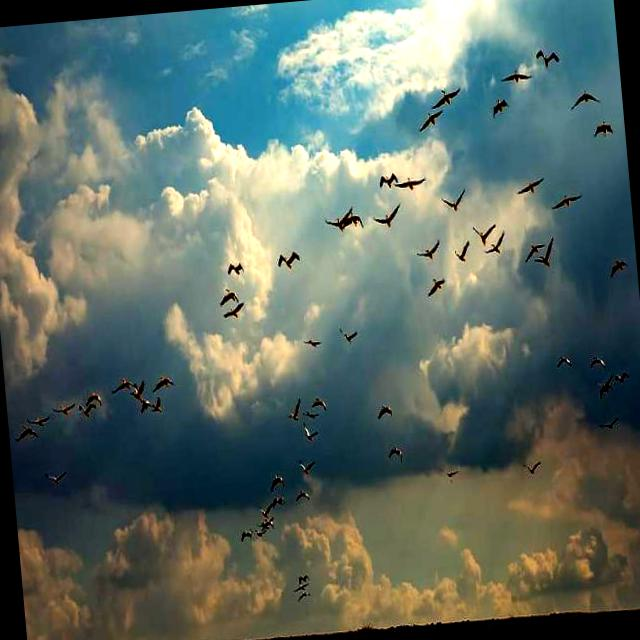bird: (315, 194, 364, 245), (267, 230, 310, 286), (425, 71, 469, 125), (437, 170, 473, 227), (509, 164, 550, 214), (484, 83, 519, 138), (36, 455, 74, 501), (494, 58, 535, 100), (563, 78, 604, 118), (335, 304, 365, 356), (530, 42, 568, 82), (532, 230, 560, 284), (369, 197, 405, 237), (215, 294, 248, 337), (516, 448, 546, 492), (55, 386, 80, 438), (549, 340, 576, 387), (217, 247, 251, 284), (544, 188, 588, 216), (483, 222, 512, 264), (300, 326, 329, 366), (414, 106, 448, 140), (11, 418, 39, 459), (108, 363, 136, 403), (420, 266, 448, 306), (128, 382, 158, 419), (232, 508, 256, 554), (280, 390, 304, 436), (411, 233, 442, 268), (600, 246, 630, 282), (518, 230, 544, 271), (446, 234, 474, 272), (372, 394, 398, 434), (590, 114, 622, 144), (595, 409, 627, 438), (209, 280, 242, 308), (590, 367, 616, 401), (128, 366, 150, 406), (154, 361, 179, 396), (396, 170, 434, 193), (468, 216, 494, 247), (293, 452, 317, 485), (296, 408, 326, 433), (384, 442, 409, 472), (583, 346, 606, 378), (374, 164, 398, 192), (27, 397, 44, 436), (150, 384, 168, 420), (75, 410, 106, 430), (264, 468, 289, 492), (84, 381, 105, 409), (270, 492, 290, 519), (310, 392, 331, 417), (615, 366, 633, 392), (292, 486, 314, 506), (298, 426, 320, 446), (259, 495, 273, 525), (441, 464, 461, 484), (298, 590, 314, 612), (286, 578, 310, 592), (255, 526, 269, 544), (294, 570, 312, 581), (258, 528, 276, 534)
